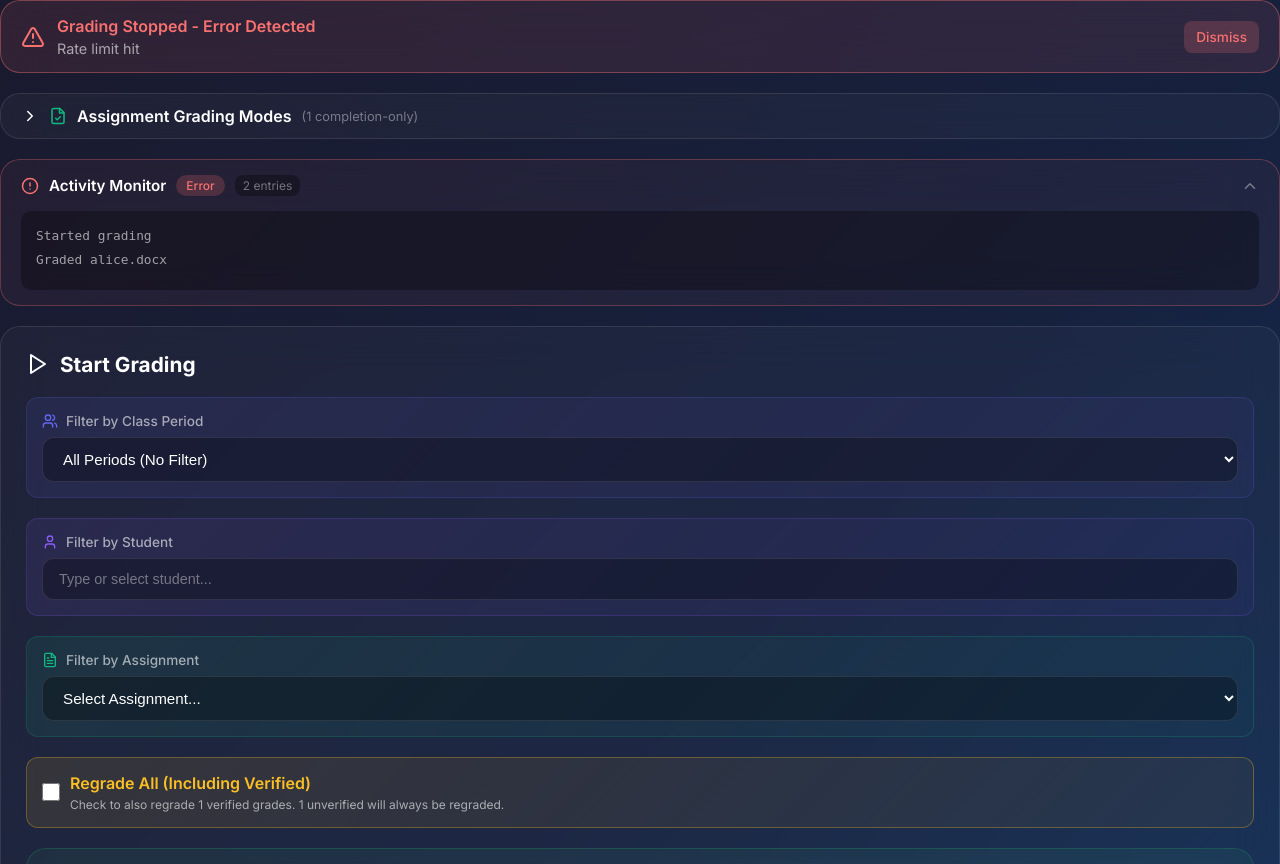
GradeTab mounts without crashing (render-time smoke) › ActiveFiltersSummary appears once a student filter is typed (state threading through StudentFilter)
Expected: the text "Active Filters:" is not shown
Note: Type into the student-filter input (free-text branch — no period selected).
Type "Alice Adams" into the field with placeholder "Type or select student...". click: (640, 579)
box: [42,558,1238,600]
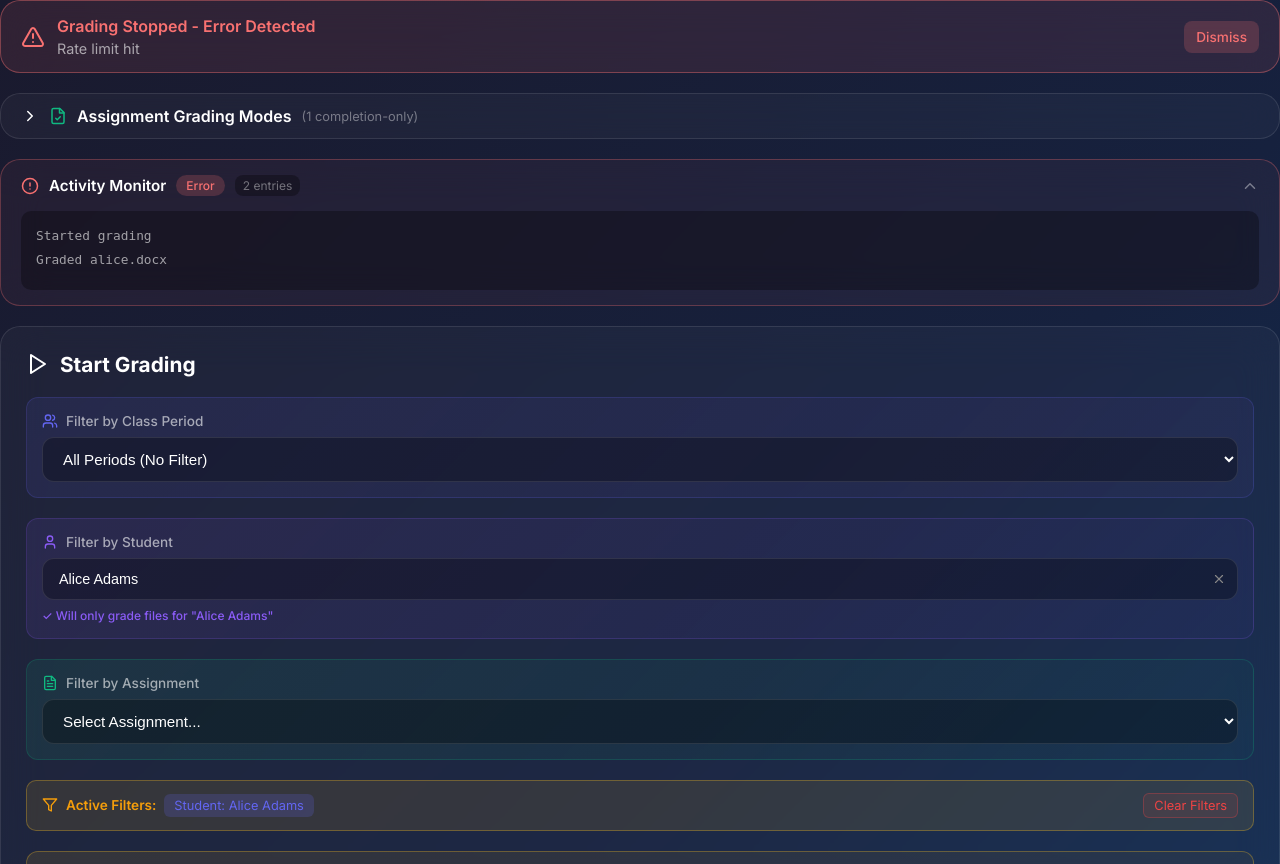
Expected: the text "✓ Will only grade files for \"Alice Adams\"" is shown, [42,608,273,623]
Expected: the text "Active Filters:" is shown, [66,797,156,813]
Expected: the text "Student: Alice Adams" is shown, [164,794,314,817]
Note: Clear Filters resets both.
Click the button "Clear Filters". click: click(1191, 805)
box: [1143,793,1238,818]
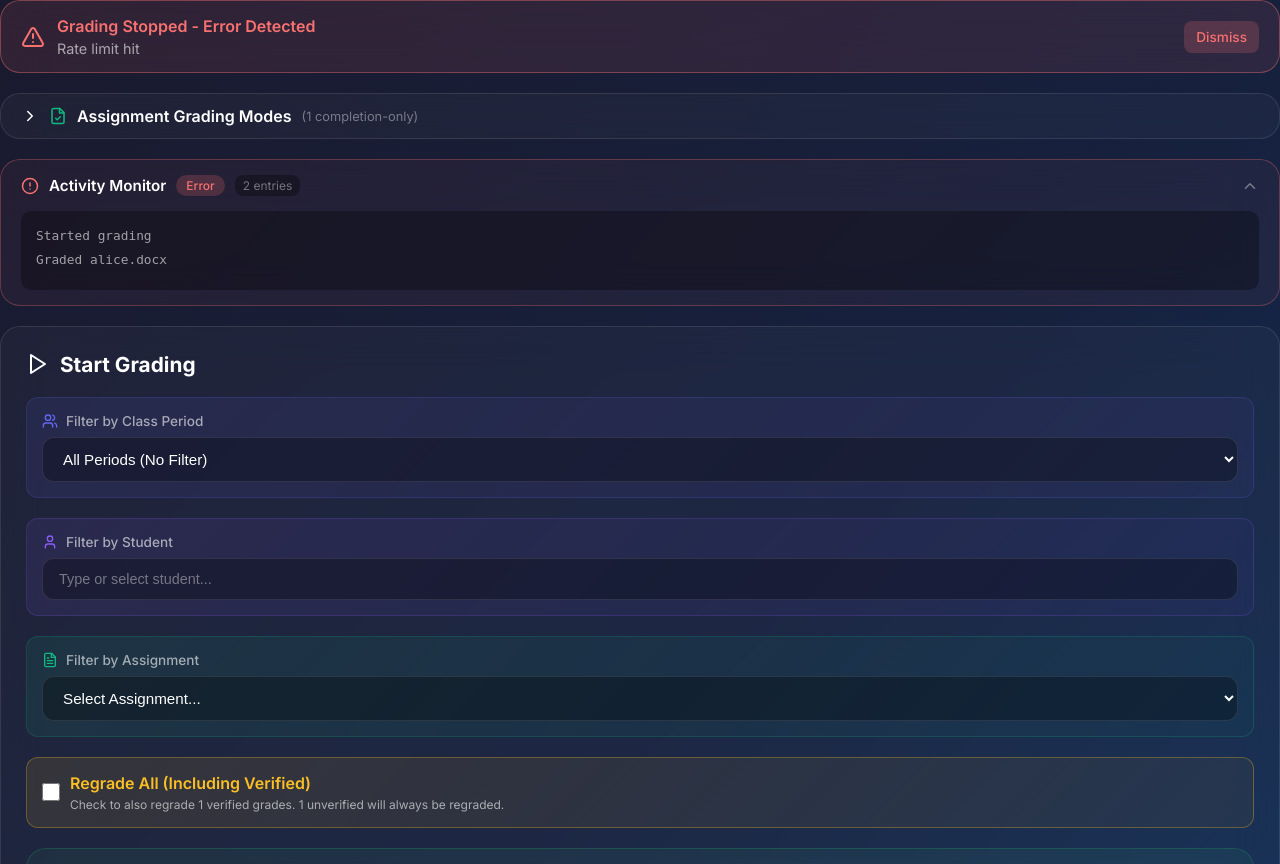
Expected: the text "Active Filters:" is gone
